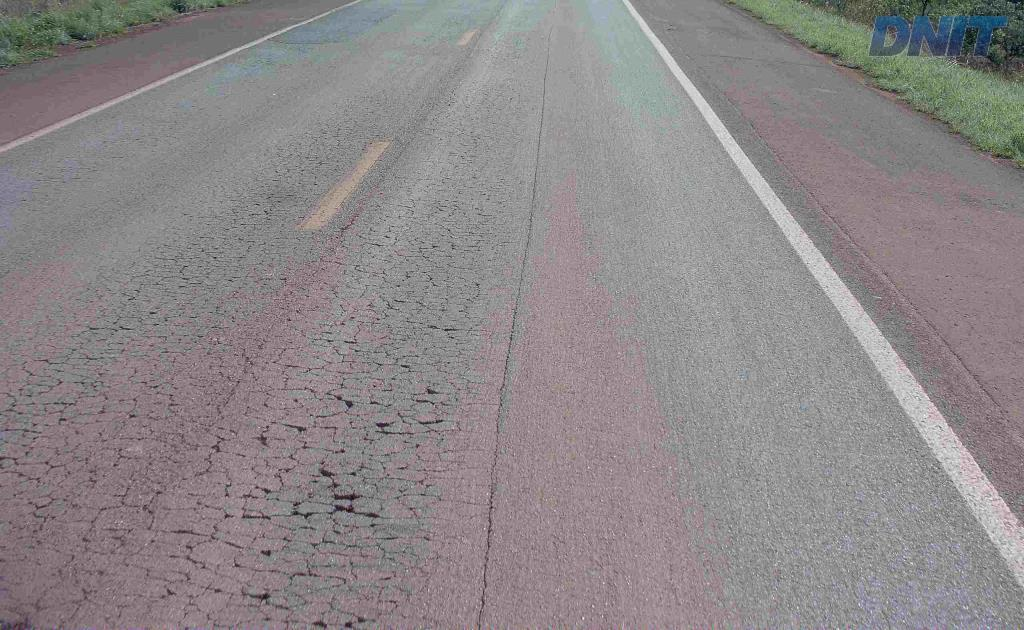crack: (312, 460, 391, 527)
